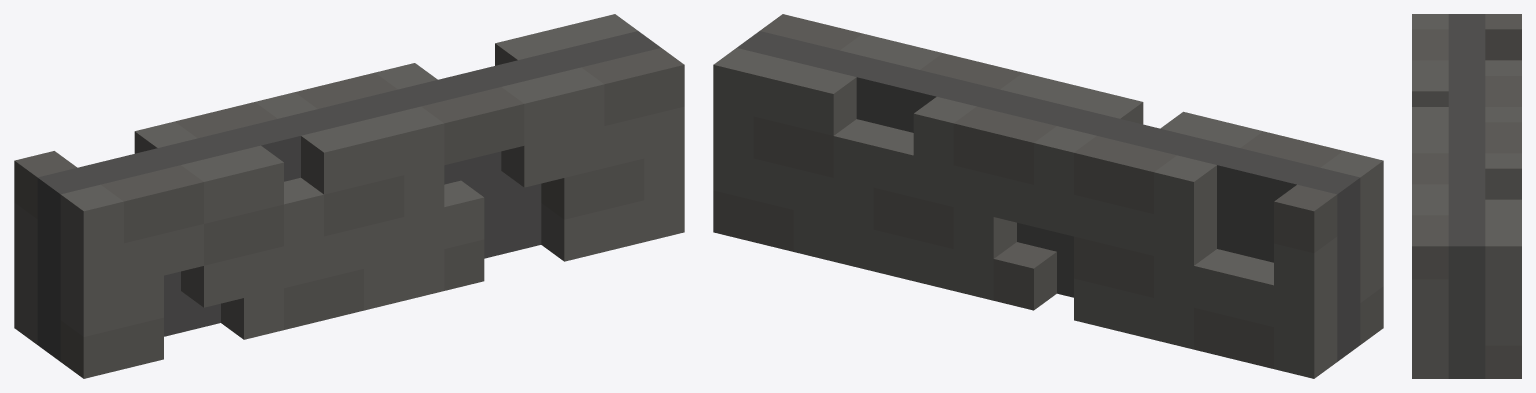
Rendered from church-71-gy_wallbase.obj.
The picture shows the model from 3 angles, left to right: view 1: azimuth 30°, elevation 25°; view 2: azimuth 150°, elevation 25°; view 3: azimuth 270°, elevation 25°; orthographic projection. The views are drawn at different scales.
Parts seen in each view (by area): view 1: gy_wallbase; view 2: gy_wallbase; view 3: gy_wallbase.
Boxes of the visible parts, x1,y1,x2,y2 form: gy_wallbase: (14, 14, 684, 378); gy_wallbase: (713, 14, 1383, 378); gy_wallbase: (1412, 14, 1521, 378).
Bounding box in the file's own units: 1.5 × 0.4 × 0.3.
Materials: 1 (1 with a texture image).
